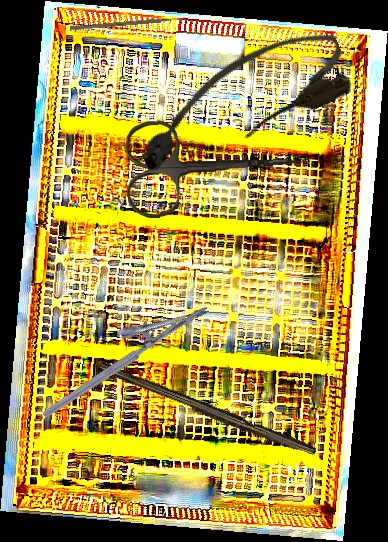Cannula: (121, 17, 360, 184)
Iris Scissors: (124, 114, 308, 219)
Needle Holder: (26, 282, 211, 420)
Pusher: (70, 15, 194, 31)
Scalpel Handle: (95, 360, 319, 461)
